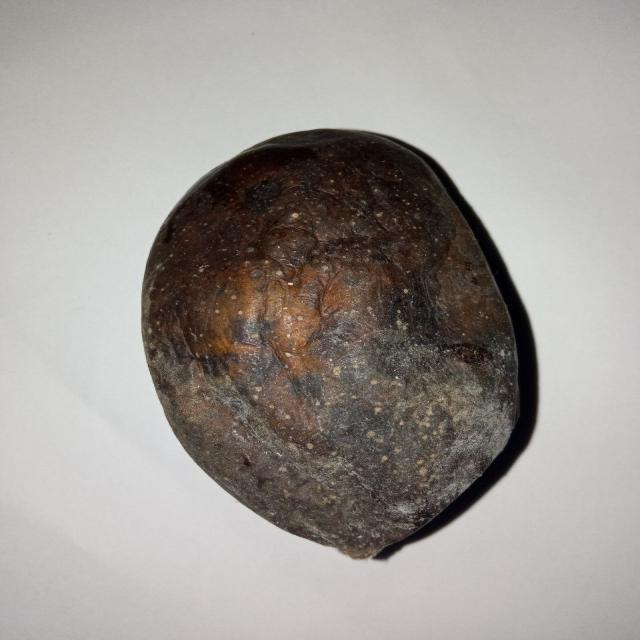rotten_mango: (140, 128, 519, 558)
